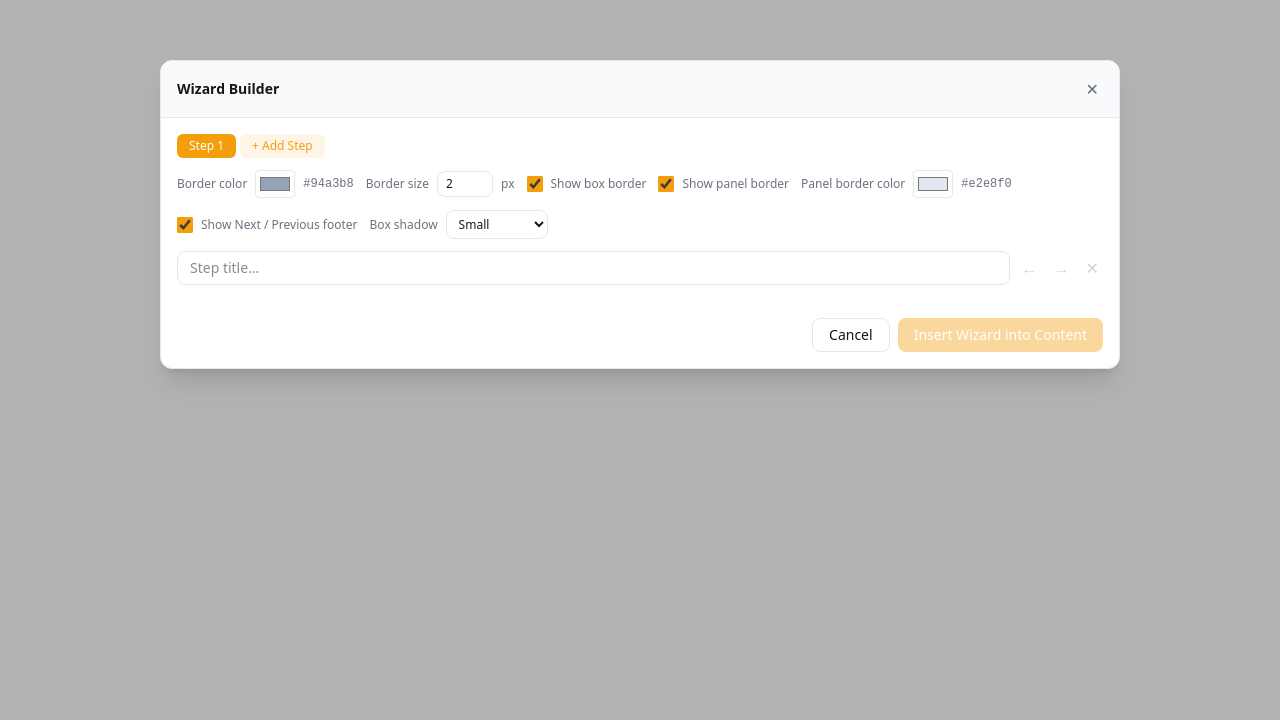
it: TC-19.2.2 Add Step appends new tab
This screenshot has width=1280, height=720.
Click the button "+ Add Step" at (282, 146), box [240,134,325,158]
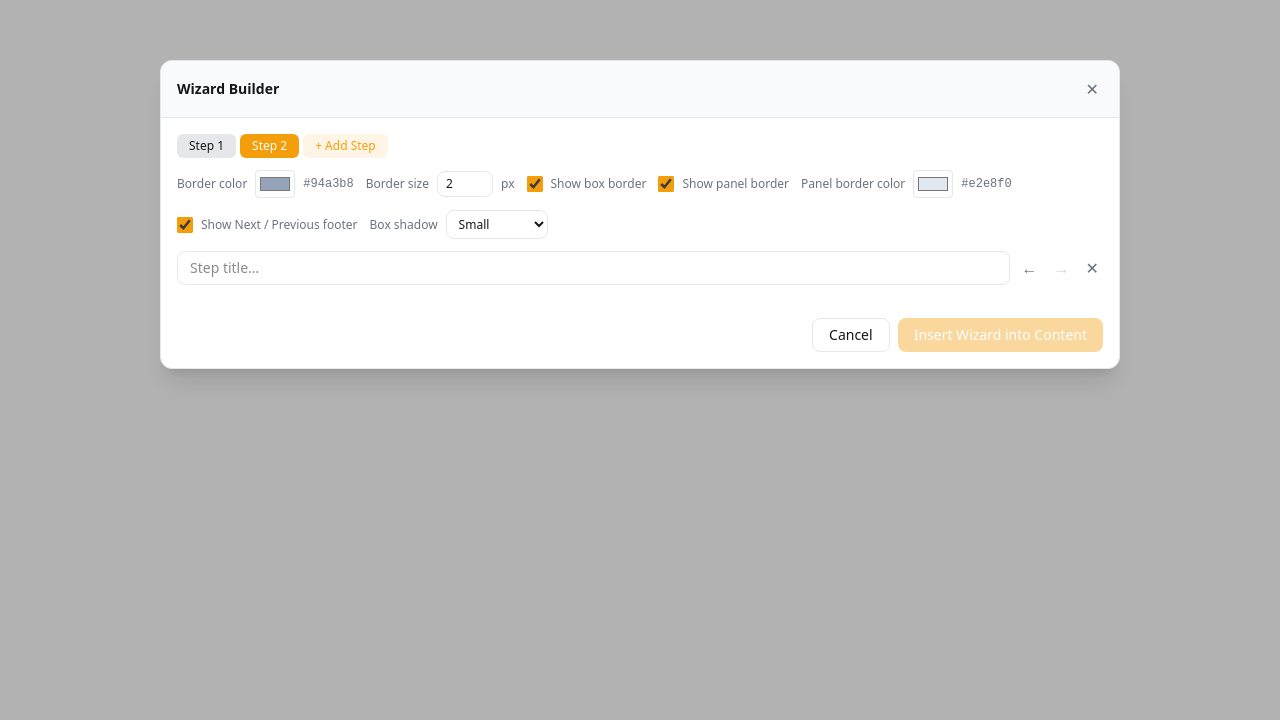
Now the number of tabs is 2, box [177,134,236,158]; [240,134,299,158]
